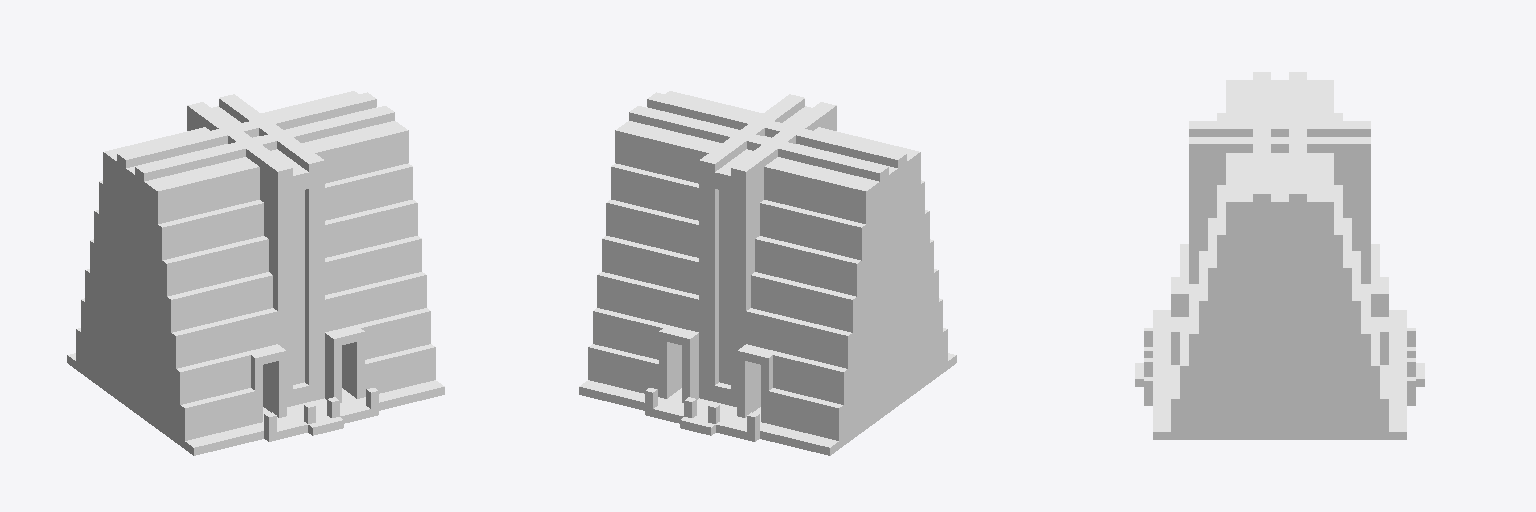
File: wallGate.obj
3 views of the same model, side by side, from view 1: azimuth 30°, elevation 25°; view 2: azimuth 150°, elevation 25°; view 3: azimuth 270°, elevation 25° (orthographic).
Parts seen in each view (by area): view 1: object 1; view 2: object 1; view 3: object 1.
Part boxes in pixels (x1,y1,x2,y2): object 1: (67,91,444,455); object 1: (579,91,956,455); object 1: (1135,72,1424,439).
Bounding box in the file's own units: 3.2 × 3 × 3.2.